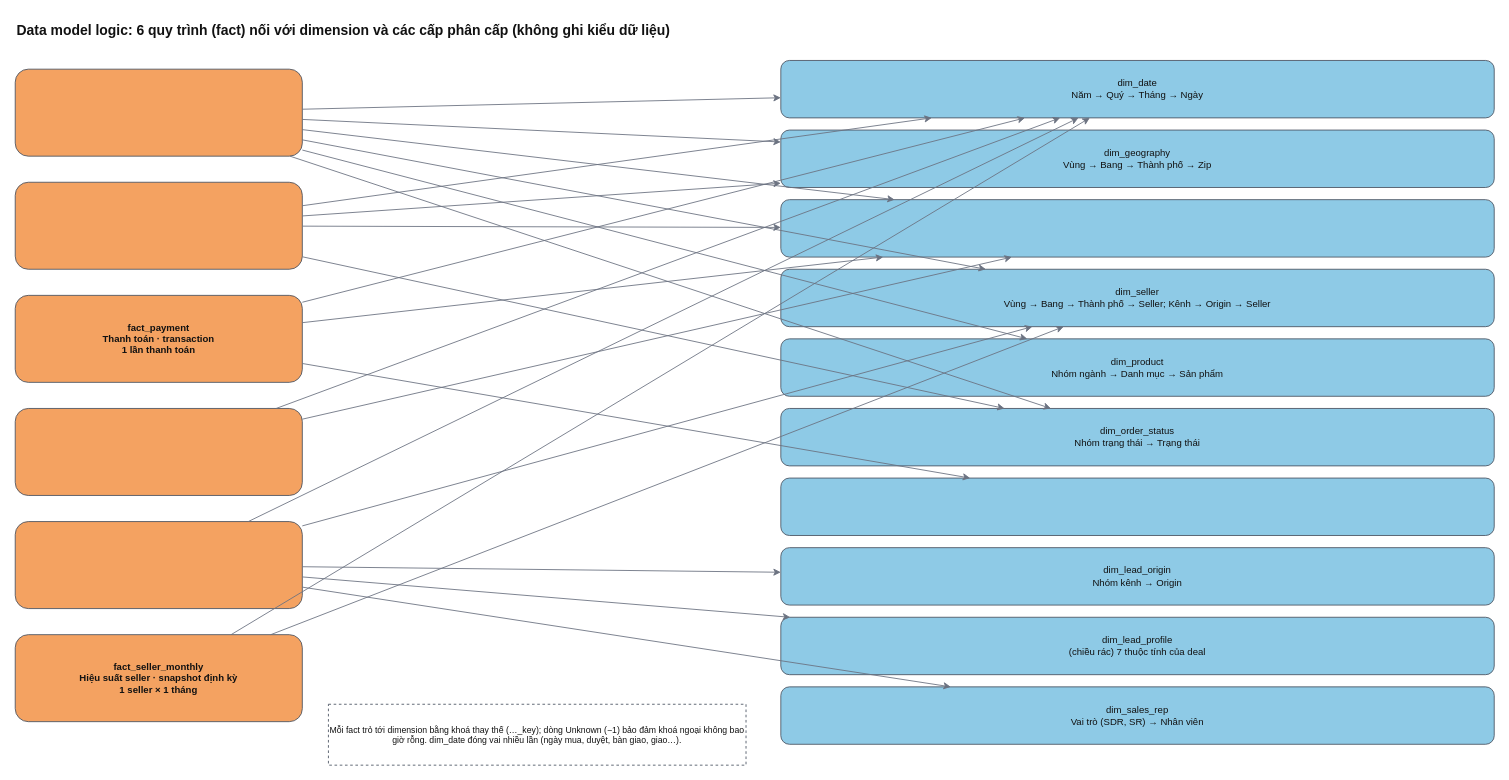
The diagram is 1509 pixels wide and 780 high, and some of its shapes have lost their labels. Here are the shapes that lost their labels. From the top down, the centre of each, then its label:
the point at 158,112: fact_order_item Bán hàng · transaction 1 dòng hàng của 1 đơn
the point at 158,225: fact_order_fulfillment Xử lý đơn · snapshot tích luỹ 1 đơn, 5 mốc thời gian
the point at 1137,228: dim_customer Vùng → Bang → Thành phố → Zip → Khách → Phiên bản (SCD2)
the point at 158,451: fact_review Đánh giá · transaction 1 review của 1 đơn
the point at 1137,506: dim_payment_type Nhóm → Hình thức
the point at 158,565: fact_lead_funnel Thu hút seller · snapshot tích luỹ 1 khách tiềm năng (MQL)
